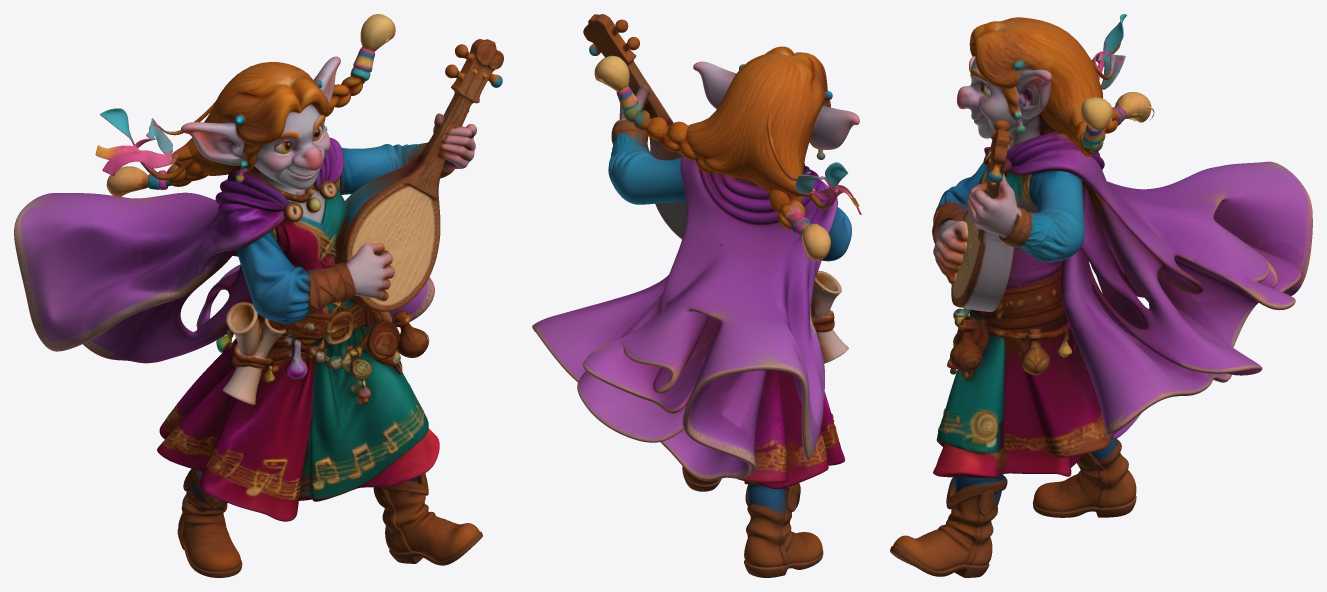
File: gnome_bard_full_female_01.glb
3 views of the same model, side by side, from view 1: azimuth 30°, elevation 25°; view 2: azimuth 150°, elevation 25°; view 3: azimuth 270°, elevation 25° (orthographic). The views are drawn at different scales.
Parts seen in each view (by area): view 1: material; view 2: material; view 3: material.
Boxes of the visible parts, x1,y1,x2,y2 form: material: (14,14,503,577); material: (532,14,861,577); material: (890,14,1312,577).
Size of the model in its own units: 0.7239 by 0.9666 by 0.7341.
Materials: 1 (1 with a texture image).
